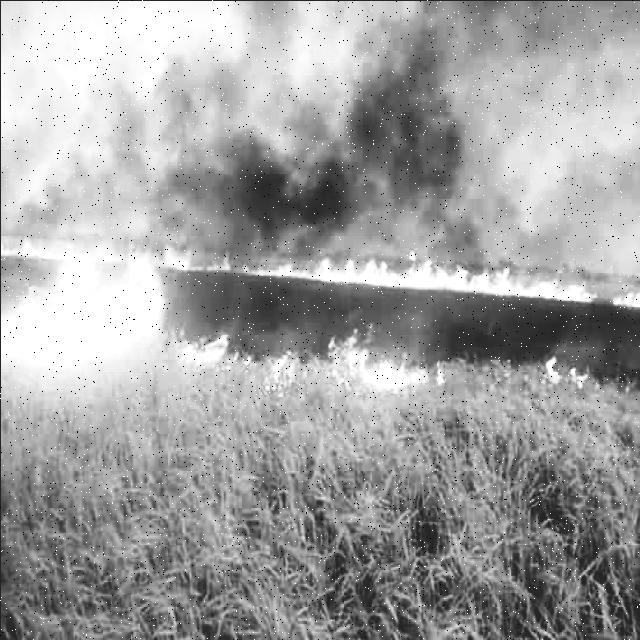api: (1, 254, 156, 362), (332, 342, 444, 396), (431, 268, 590, 300), (267, 263, 434, 288), (183, 328, 239, 370), (542, 354, 589, 386), (171, 259, 253, 277), (274, 350, 298, 391), (613, 294, 640, 308)
asap: (1, 3, 636, 247)
